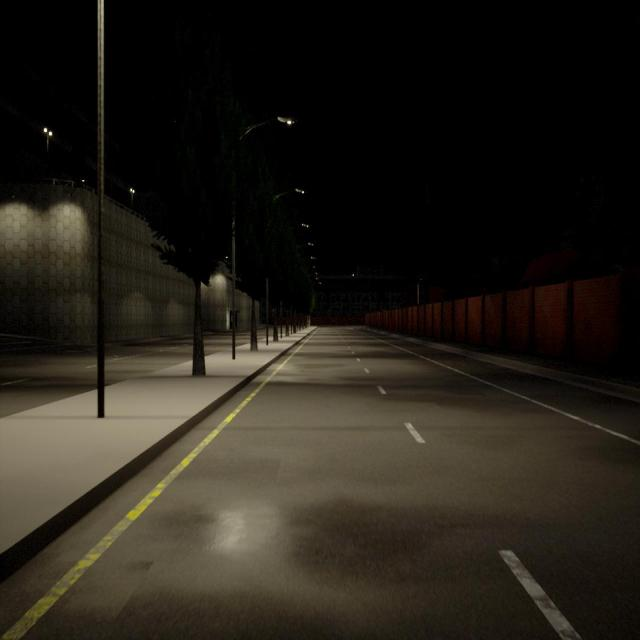Pedestrian: (388, 314, 392, 332)
